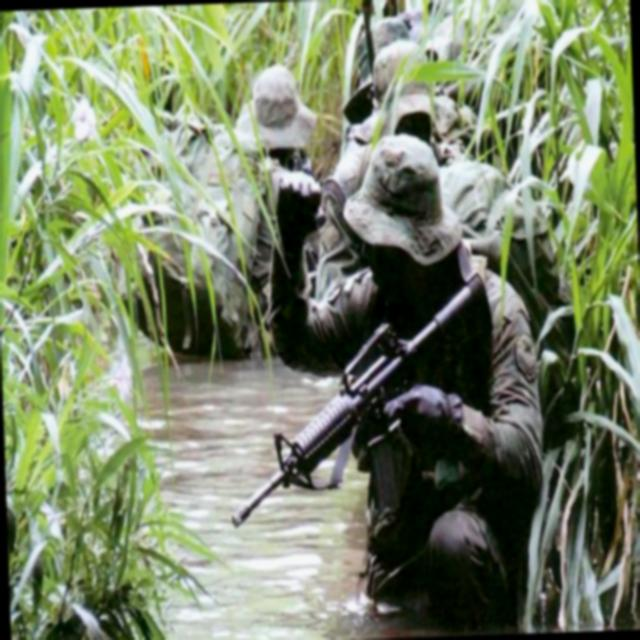m16: (195, 260, 559, 591)
